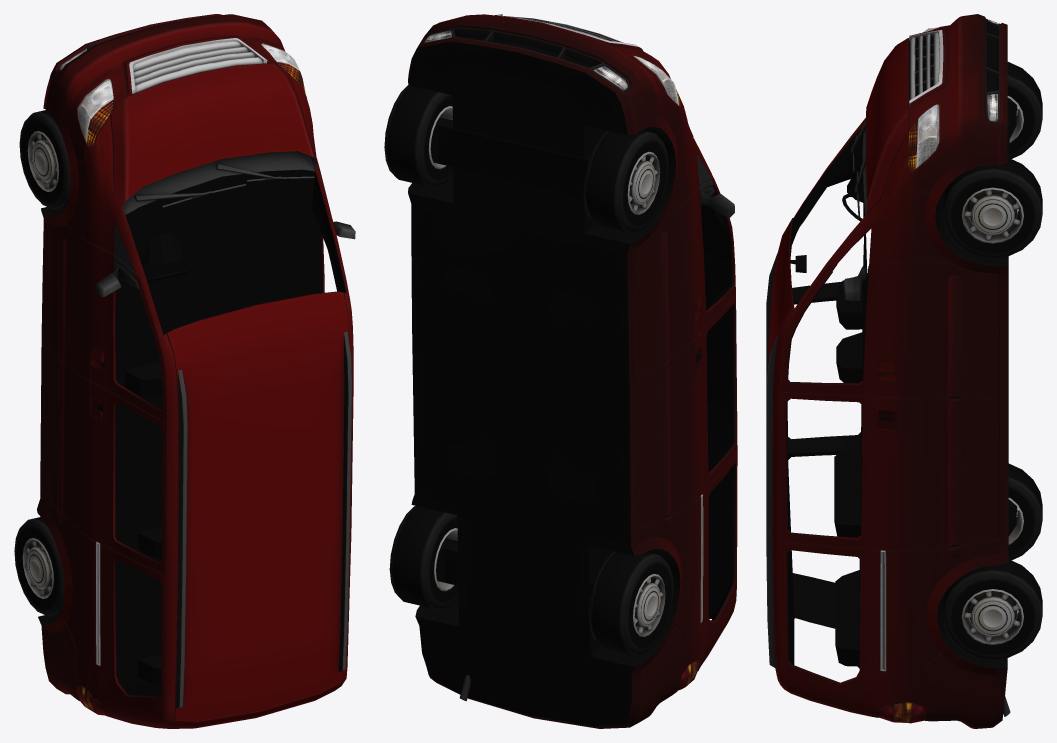
File: car_2z.gltf
3 views of the same model, side by side, from view 1: azimuth 30°, elevation 25°; view 2: azimuth 150°, elevation 25°; view 3: azimuth 270°, elevation 25° (orthographic). The views are drawn at different scales.
Visible parts, largest first — view 1: minivan body, Wheel_D, Wheel_D001; view 2: minivan body, Wheel_D001, Wheel_D, Wheel_D003, Wheel_D002; view 3: minivan body, Wheel_D002, Wheel_D003, Wheel_D001, Wheel_D.
Boxes of the visible parts, x1,y1,x2,y2 form: minivan body: (37, 14, 355, 728); Wheel_D: (19, 110, 70, 209); Wheel_D001: (14, 517, 64, 616); minivan body: (408, 14, 737, 728); Wheel_D001: (588, 551, 673, 655); Wheel_D: (583, 130, 668, 233); Wheel_D003: (389, 505, 458, 609); Wheel_D002: (384, 85, 453, 187); minivan body: (766, 14, 1016, 728); Wheel_D002: (943, 157, 1042, 258); Wheel_D003: (943, 559, 1042, 659); Wheel_D001: (1008, 463, 1042, 560); Wheel_D: (1007, 62, 1042, 158).
Size of the model in its own units: 1.87 by 4.61 by 1.76.
3 materials, 3 textured.
